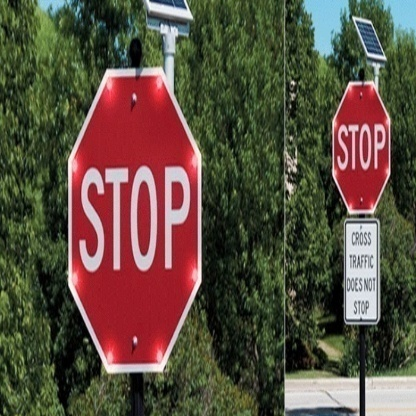stop: (70, 69, 204, 389), (333, 81, 388, 215)
